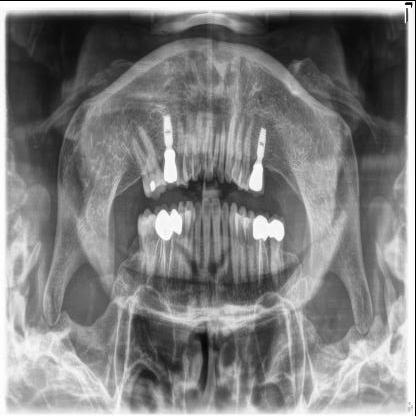Bicon: (164, 108, 176, 146), (257, 129, 268, 162)
